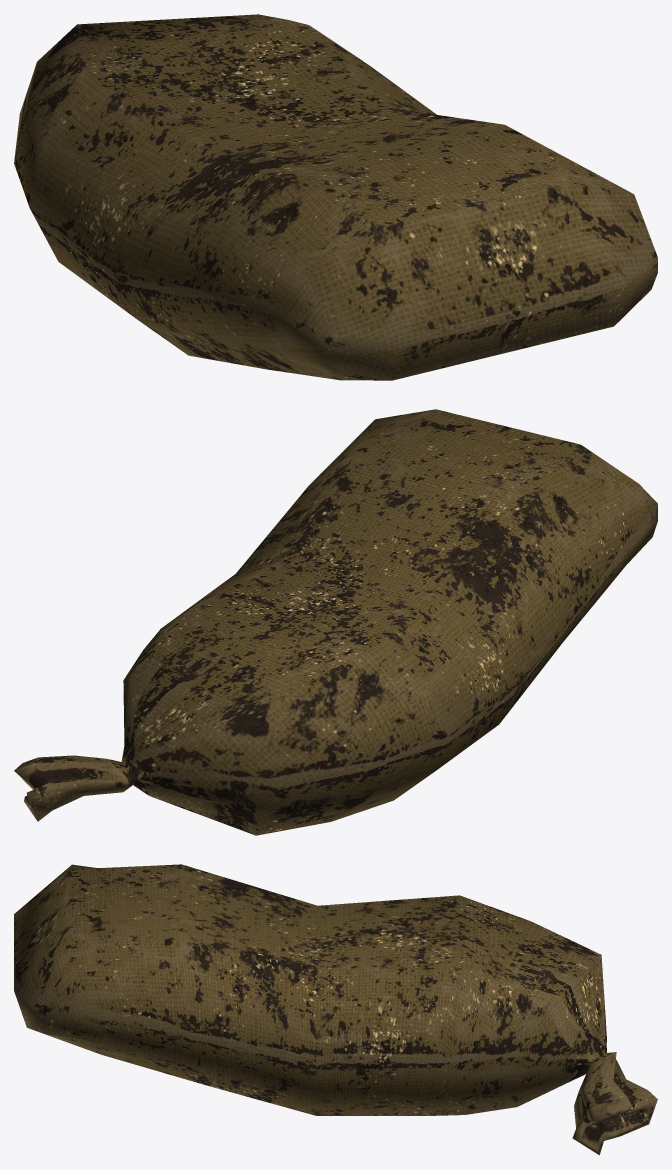
Rendered from bag_3.fbx.
3 views of the same model, one above another, from view 1: azimuth 30°, elevation 25°; view 2: azimuth 150°, elevation 25°; view 3: azimuth 270°, elevation 25° (orthographic). The views are drawn at different scales.
Visible parts, largest first — view 1: bag_3; view 2: bag_3; view 3: bag_3.
Part boxes in pixels (x1,y1,x2,y2): bag_3: (14,14,657,380); bag_3: (14,409,657,835); bag_3: (14,864,657,1155).
Size of the model in its own units: 53.83 by 31.67 by 102.
1 material, 1 textured.
